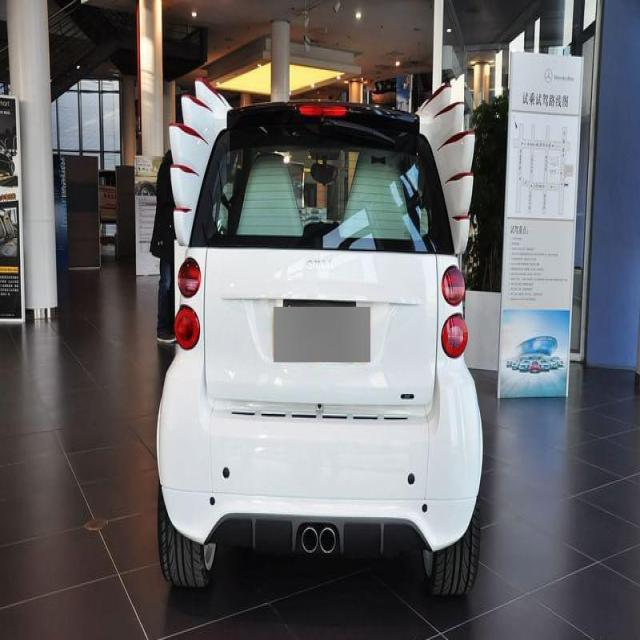back_glass: (205, 127, 438, 251)
back_left_side_light: (173, 256, 200, 354)
back_right_side_light: (440, 264, 466, 361)
rear_bumper: (157, 354, 485, 553)
